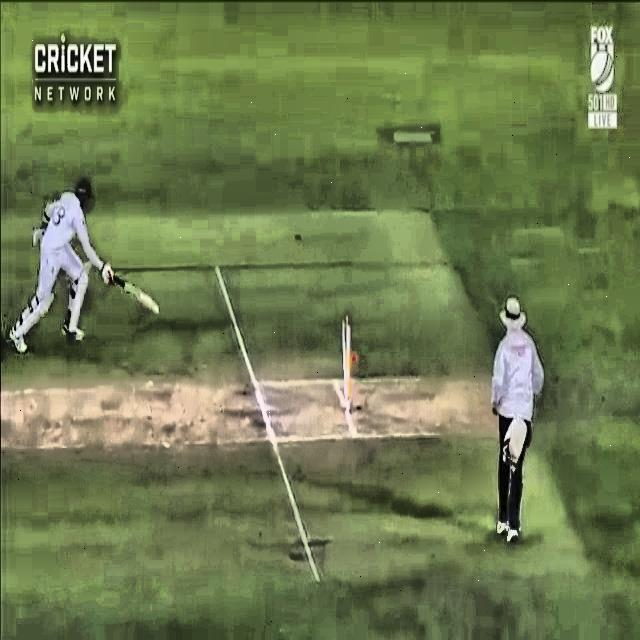Bat: (87, 255, 163, 319)
Dis_Wicket: (334, 305, 360, 418)
Pitch_Line: (209, 266, 324, 582)
